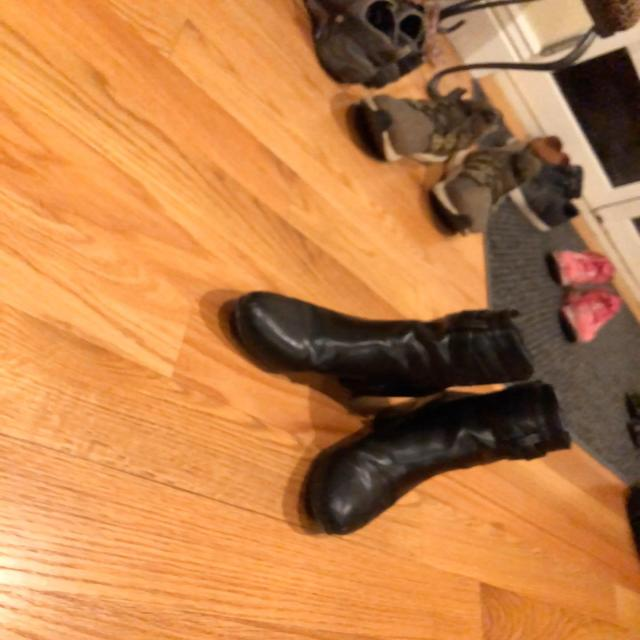shoe: (303, 381, 572, 539), (220, 292, 536, 398)
